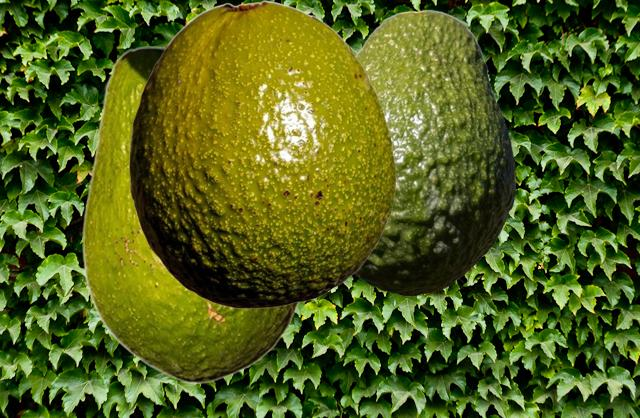avocado: (129, 0, 395, 307), (82, 46, 301, 382), (353, 9, 514, 295)
